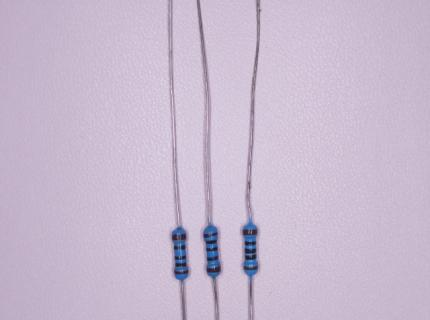Black band: (205, 239, 217, 245), (207, 255, 219, 261), (206, 246, 217, 252), (245, 248, 256, 254), (175, 262, 187, 267), (174, 255, 186, 260), (174, 245, 186, 250), (245, 241, 256, 246), (245, 255, 256, 260)
Brown band: (172, 233, 187, 241), (242, 229, 258, 236), (207, 266, 221, 273), (203, 232, 218, 238), (174, 269, 189, 275), (243, 265, 259, 270)
